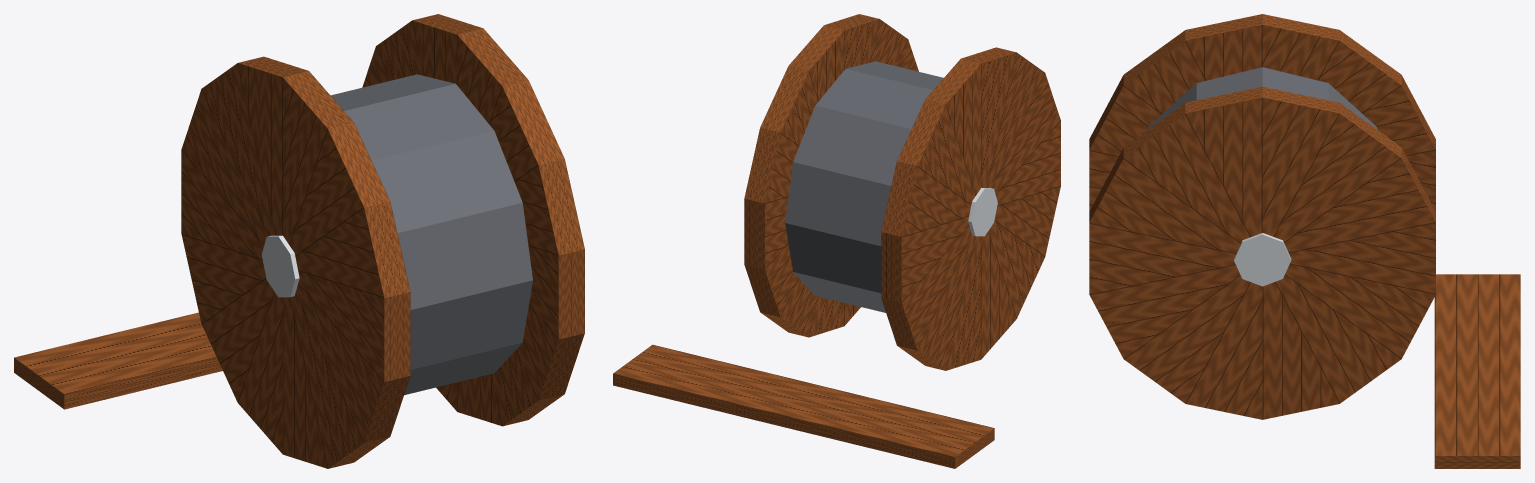
File: travelling-circus-and-big-top-cable-drum-acb362fe__36270.glb
3 renders of one model, left to right at view 1: azimuth 30°, elevation 25°; view 2: azimuth 150°, elevation 25°; view 3: azimuth 270°, elevation 25°, orthographic. The views are drawn at different scales.
Visible parts, largest first — view 1: drum/timber, drum/charcoal, cable-drum-timber, drum/steel; view 2: drum/timber, drum/charcoal, cable-drum-timber, drum/steel; view 3: drum/timber, cable-drum-timber, drum/charcoal, drum/steel.
Boxes of the visible parts, <box> form: drum/timber: <box>181,14,584,468</box>; drum/charcoal: <box>330,74,532,395</box>; cable-drum-timber: <box>14,312,222,409</box>; drum/steel: <box>261,235,299,297</box>; drum/timber: <box>744,14,1060,370</box>; drum/charcoal: <box>785,61,943,312</box>; cable-drum-timber: <box>613,344,994,468</box>; drum/steel: <box>968,187,997,236</box>; drum/timber: <box>1089,14,1435,419</box>; cable-drum-timber: <box>1434,274,1520,468</box>; drum/charcoal: <box>1147,67,1377,129</box>; drum/steel: <box>1234,233,1291,286</box>.
Size of the model in its own units: 1.5 by 1.24 by 1.5.
Materials: 3 (1 with a texture image).
